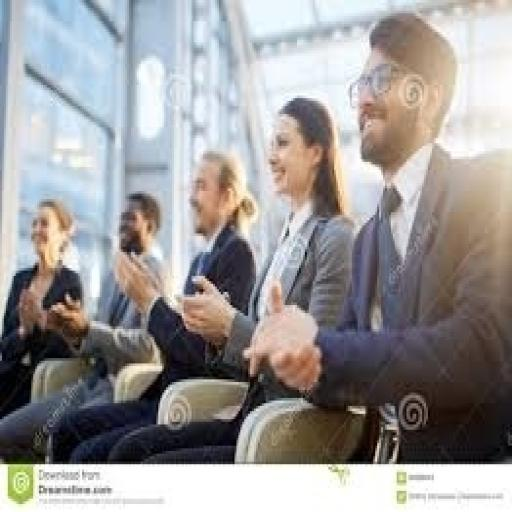clapping: (238, 8, 510, 462), (106, 93, 358, 464), (47, 146, 258, 464), (0, 188, 170, 462), (0, 196, 86, 422)
